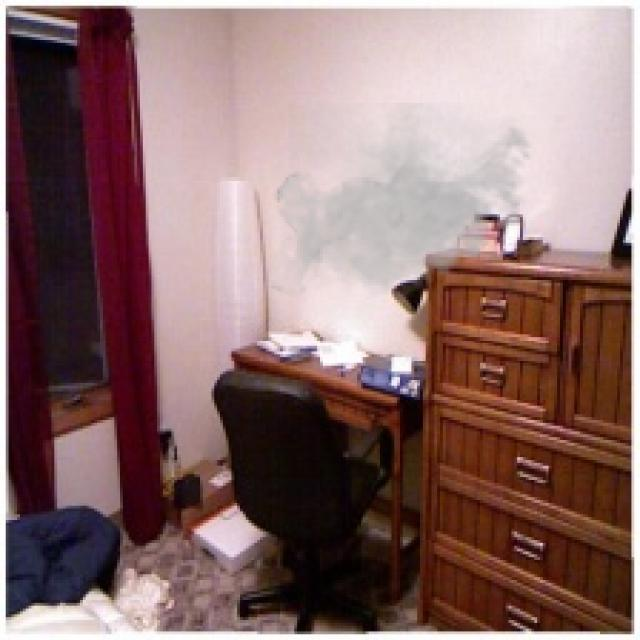Smoke: (271, 103, 540, 303)
